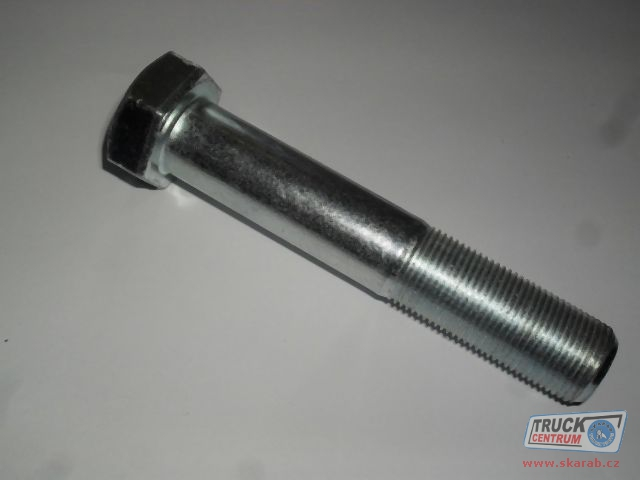screw: (101, 49, 619, 405)
